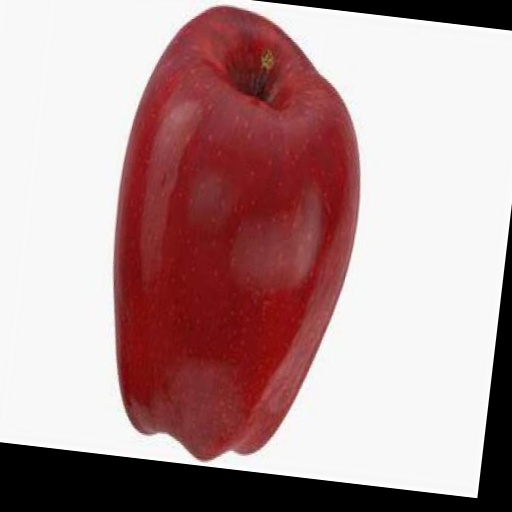fruit: (114, 7, 359, 459)
